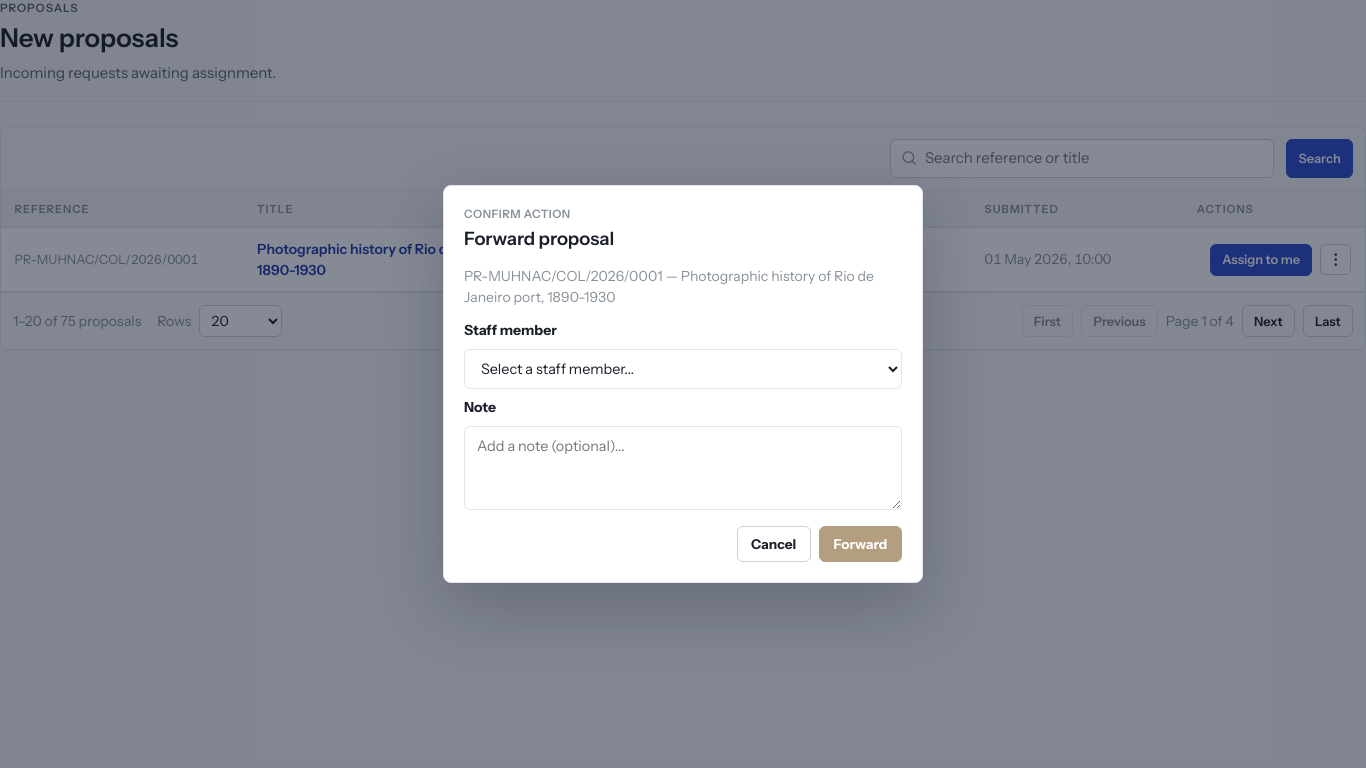
Scenario: ProposalsNewPageComponent › forwards a new proposal from the confirmation modal
Expected: the dialog is shown, [443,185,923,583]
Expected: the dialog shows "PR-MUHNAC/COL/2026/0001", [464,267,874,306]
Select "Bob Santos — Collections management" in the dropdown with id "forward-modal-target" at (683, 369), box [464,349,902,389]
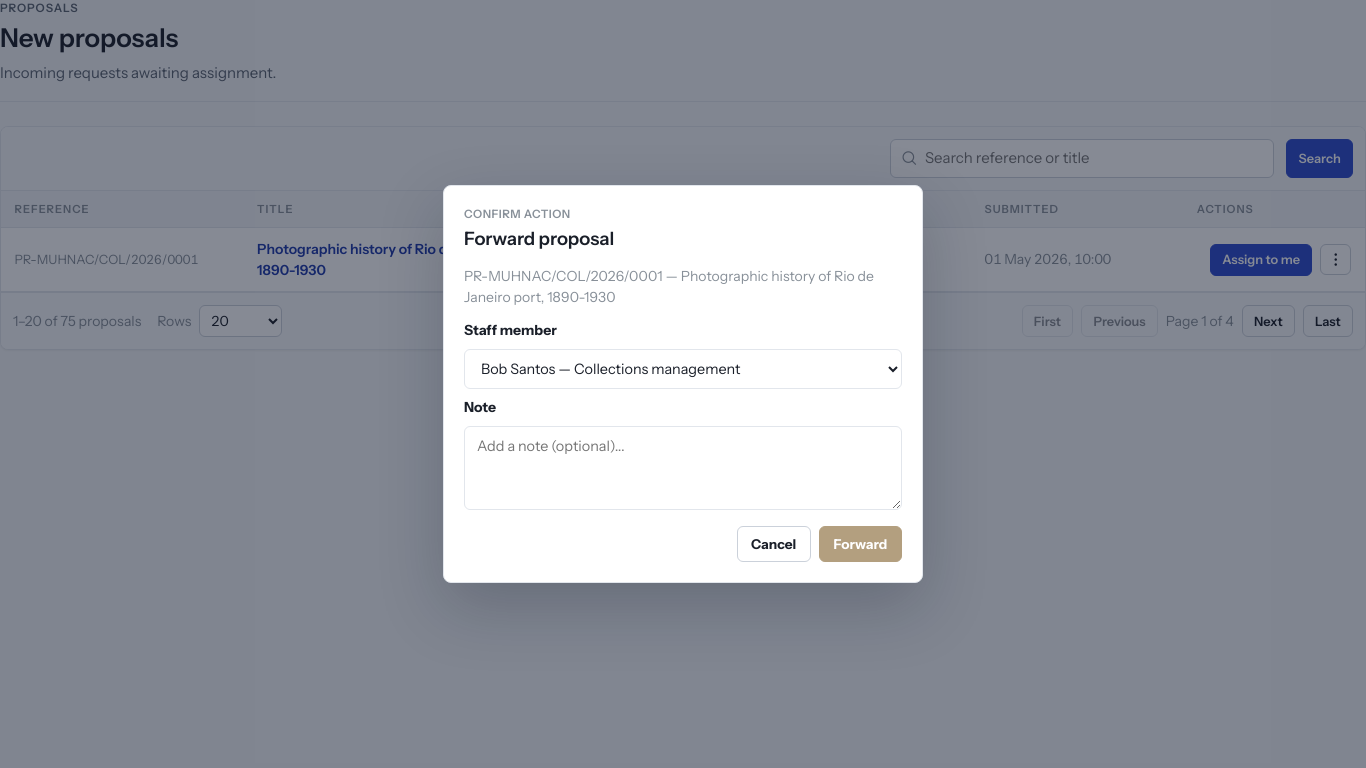
Type "Please review this incoming request." into the text box with id "forward-modal-note" at (683, 468), box [464,426,902,510]
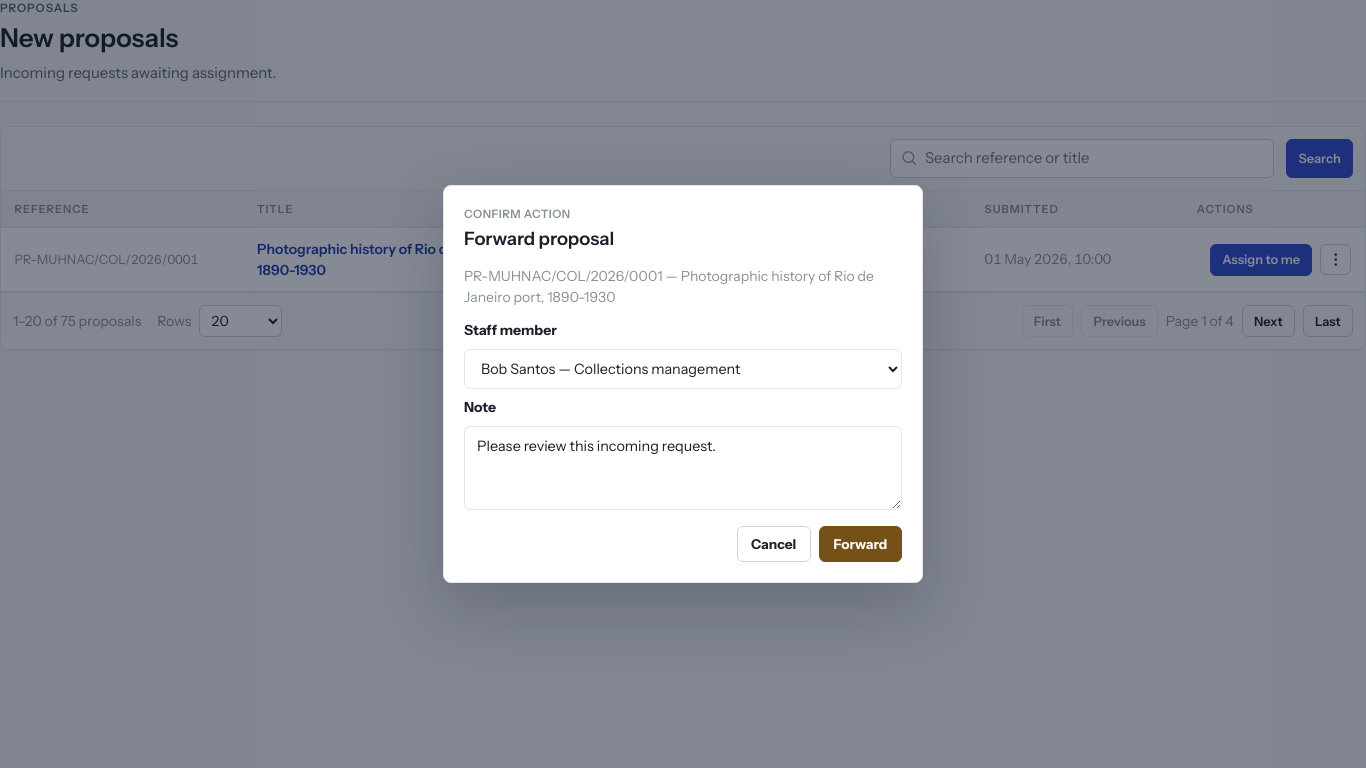
Expected: the button "Forward" is enabled
Click the button "Forward" at (860, 544), box [819,526,902,562]
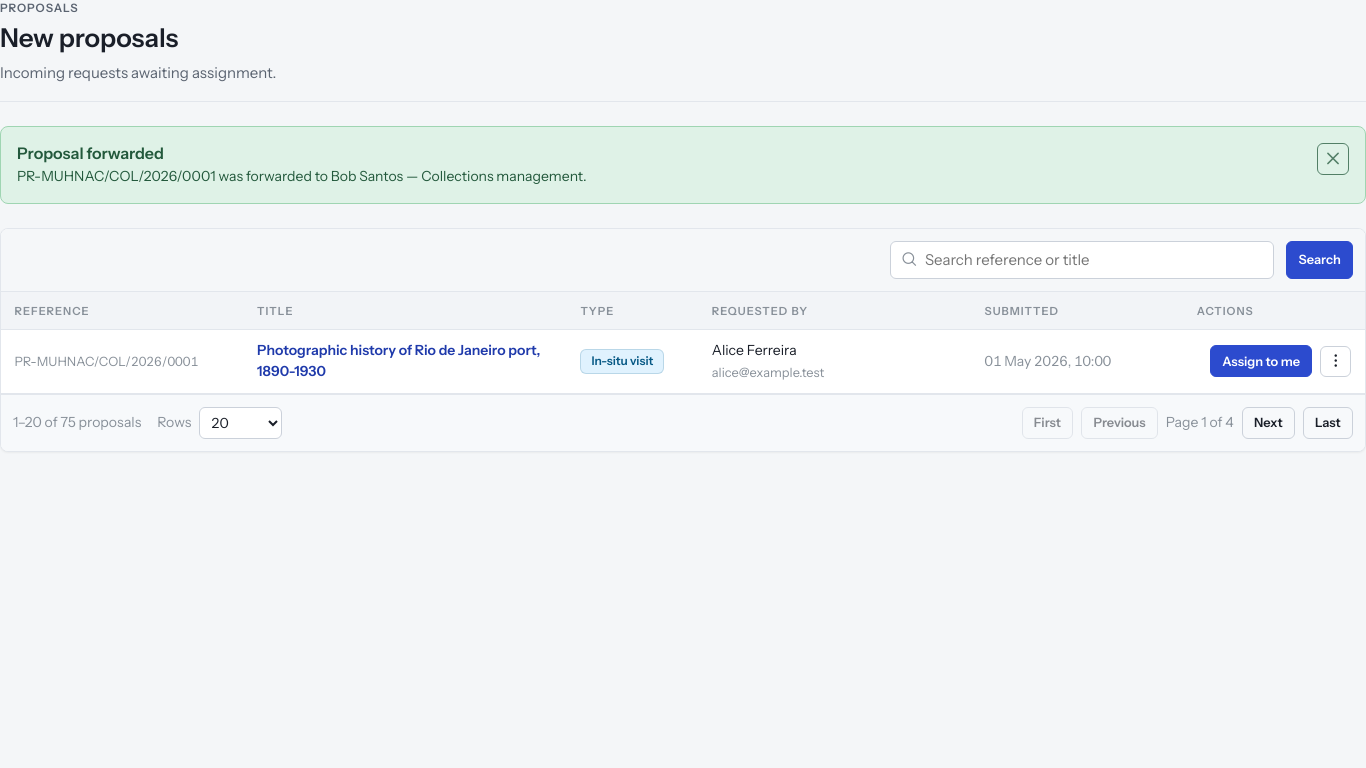
Expected: the text "Proposal forwarded" is shown, [17,143,164,163]
Expected: the text "PR-MUHNAC/COL/2026/0001 was forwarded to Bob Santos" is shown, [17,167,586,185]
